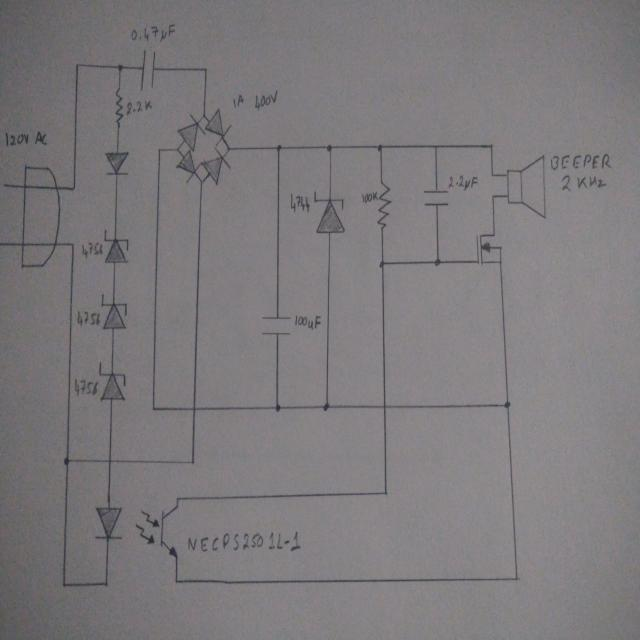capacitor: (259, 311, 292, 341), (137, 48, 160, 90), (422, 186, 450, 211)
crossover: (380, 401, 391, 411), (105, 456, 115, 466), (190, 404, 198, 412)
diode: (313, 190, 347, 234), (98, 360, 127, 402), (202, 148, 230, 185), (100, 293, 128, 330), (177, 114, 205, 150), (205, 109, 230, 145), (103, 230, 129, 264), (176, 150, 201, 183), (104, 151, 129, 175)
junction: (324, 142, 335, 154), (432, 256, 443, 268), (502, 398, 512, 409), (375, 142, 384, 153), (273, 402, 282, 413), (322, 400, 330, 412), (378, 258, 386, 270), (274, 142, 283, 152), (513, 574, 521, 584), (382, 488, 390, 497), (116, 62, 123, 72), (63, 456, 70, 466), (173, 576, 180, 585), (202, 65, 209, 73), (488, 142, 495, 149), (103, 580, 110, 587), (489, 170, 495, 178), (490, 192, 496, 200), (433, 142, 439, 150), (225, 144, 231, 152), (60, 580, 66, 588), (156, 146, 162, 154), (150, 405, 156, 412), (70, 240, 75, 248), (199, 178, 205, 184), (74, 62, 80, 68), (71, 184, 76, 191), (190, 458, 195, 465), (201, 112, 206, 118), (175, 496, 180, 502), (176, 146, 180, 152)
resistor: (378, 180, 392, 230), (114, 86, 124, 126)
terminal: (0, 240, 7, 249), (1, 182, 8, 190)
text: (186, 530, 304, 552), (549, 152, 612, 173), (559, 173, 607, 194), (129, 24, 176, 43), (4, 129, 48, 148), (252, 89, 280, 112), (448, 173, 478, 193), (293, 313, 322, 333), (73, 377, 99, 399), (125, 98, 154, 116), (288, 191, 310, 213), (76, 308, 101, 327), (80, 240, 104, 259), (230, 92, 246, 109), (361, 190, 378, 205)
transistor: (475, 231, 505, 266)
